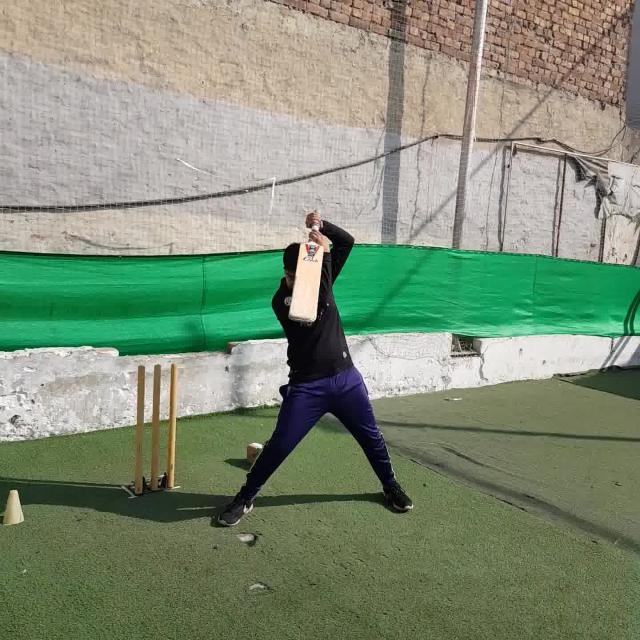bat: (290, 208, 330, 323)
